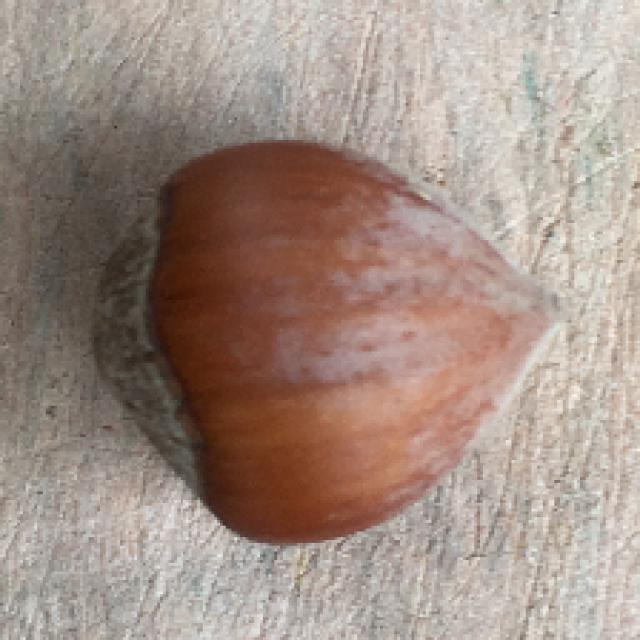qualityHazelnut: (89, 136, 582, 548)
